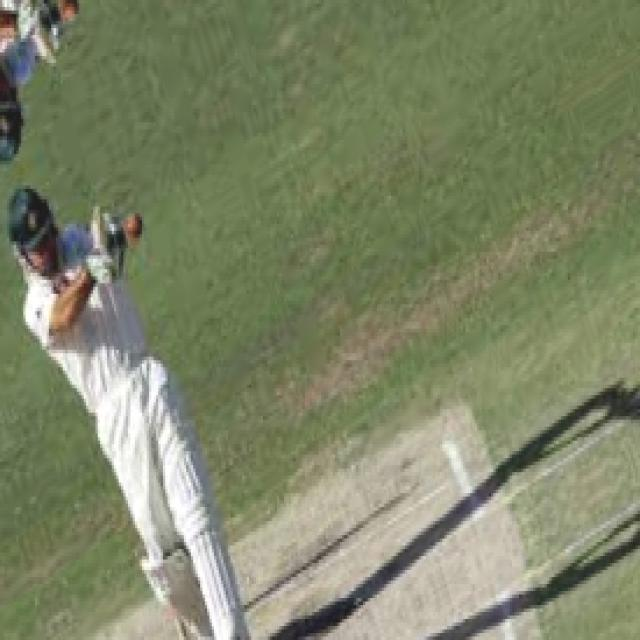toe: (89, 213, 106, 251)
